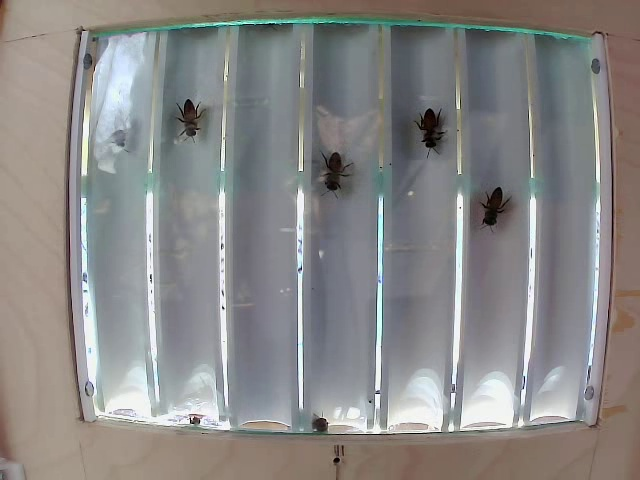bee: (479, 169, 517, 233), (163, 90, 201, 150), (308, 154, 347, 202), (417, 105, 439, 165)
